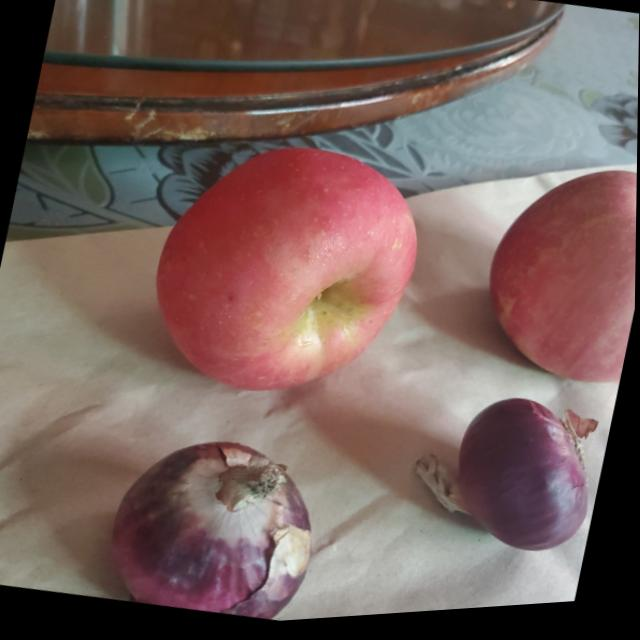apple: (135, 120, 439, 426), (469, 150, 638, 406)
onion: (106, 424, 334, 634), (439, 389, 612, 571)
